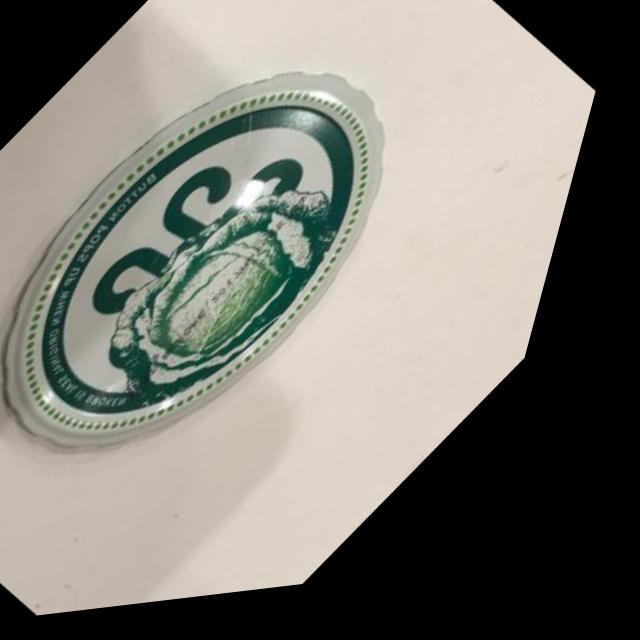metal: (0, 0, 550, 574)
